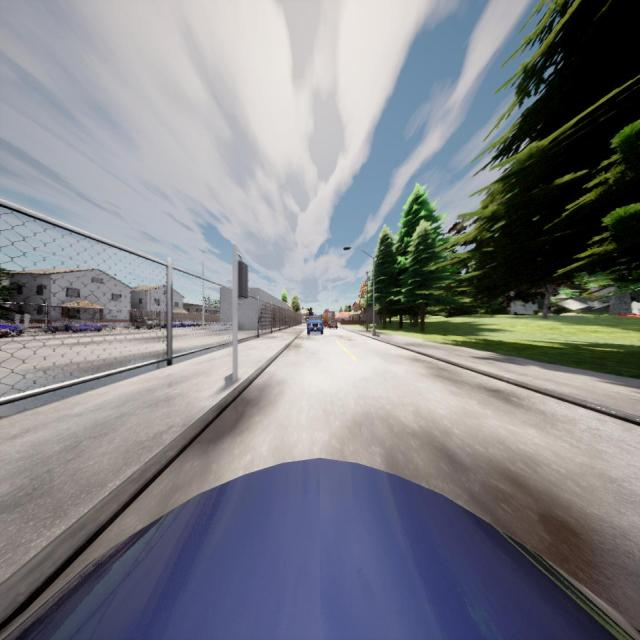Vehicle: (0, 461, 640, 640), (0, 319, 23, 338), (72, 320, 101, 332), (48, 319, 70, 333), (308, 315, 322, 336), (135, 317, 158, 329), (323, 310, 335, 327), (181, 319, 201, 326), (328, 320, 337, 329), (172, 320, 181, 327)
traffic_light: (238, 262, 248, 296)
